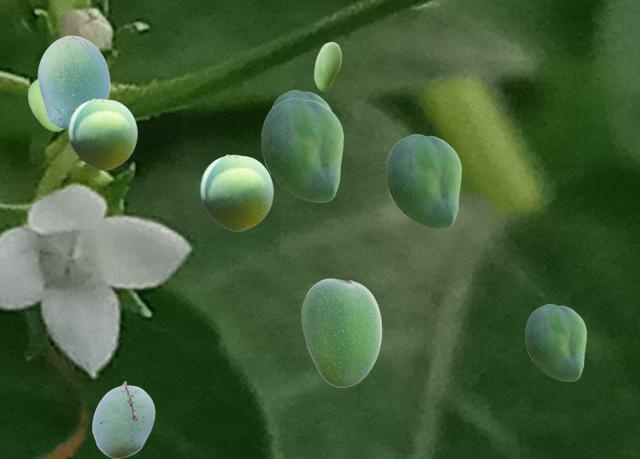green_mango: (301, 278, 381, 386), (261, 98, 342, 201), (386, 134, 460, 228), (37, 35, 109, 129), (200, 154, 272, 230), (68, 98, 136, 169), (92, 381, 154, 457), (525, 304, 585, 380), (28, 79, 63, 130), (314, 42, 340, 90), (271, 90, 331, 109)
